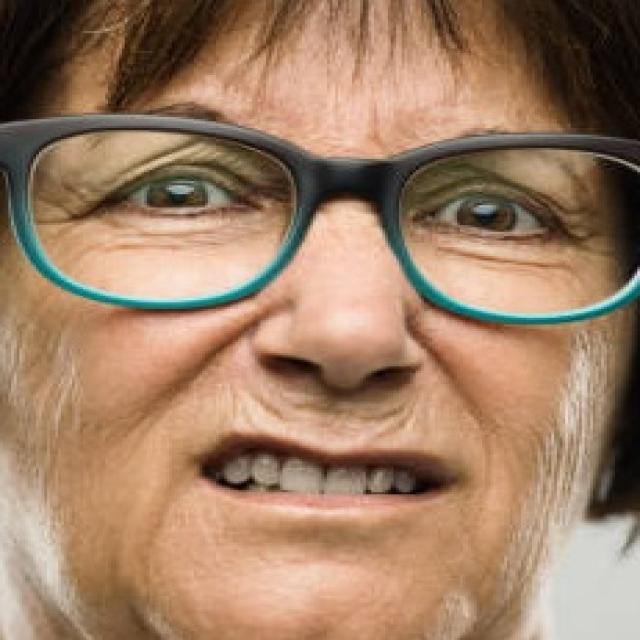Anxiety: (0, 0, 637, 638)
